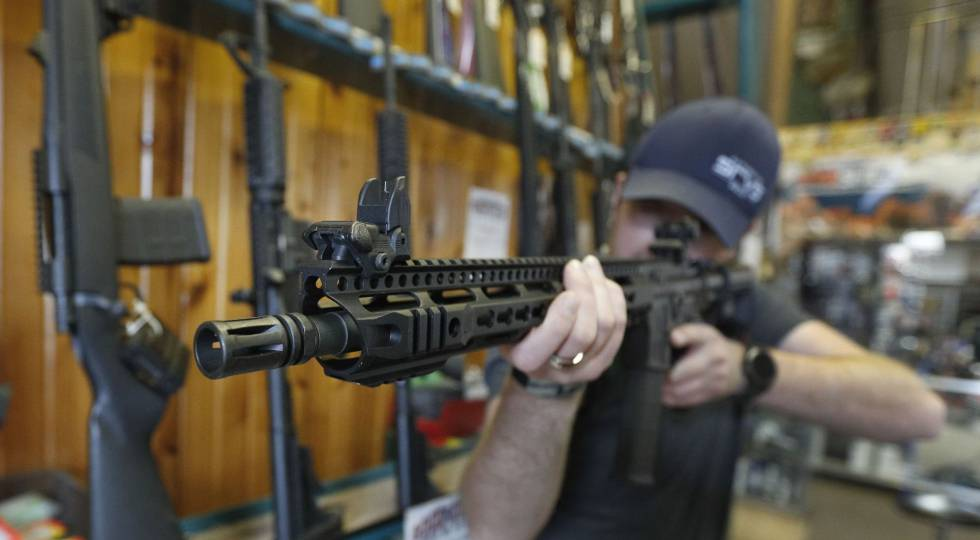Arma Real: (202, 181, 765, 490)
